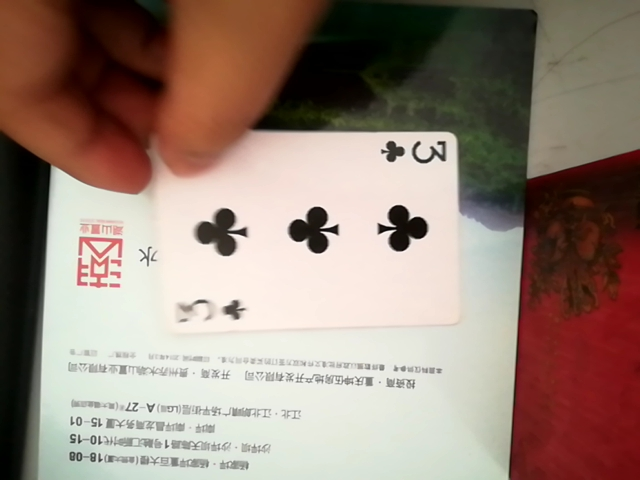mh 3: (129, 126, 460, 335)
